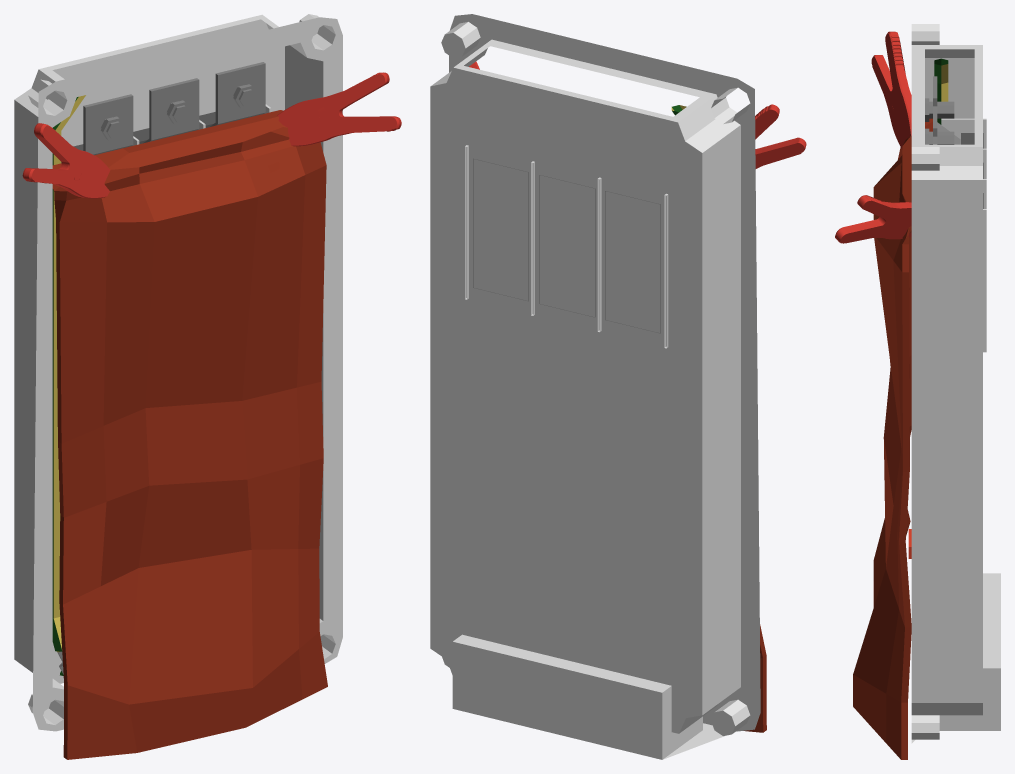
Rendered from Main-Distributor-V001-10-with-blanket.fbx.
3 views of the same model, side by side, from view 1: azimuth 30°, elevation 25°; view 2: azimuth 150°, elevation 25°; view 3: azimuth 270°, elevation 25° (orthographic). The views are drawn at different scales.
Parts seen in each view (by area): view 1: Safety-blanket, 000-box; view 2: 000-box, Safety-blanket; view 3: 000-box, Safety-blanket.
Part boxes in pixels (x1,y1,x2,y2): Safety-blanket: (22, 72, 401, 759); 000-box: (14, 14, 342, 731); 000-box: (430, 14, 760, 759); Safety-blanket: (469, 61, 806, 732); 000-box: (911, 24, 1000, 743); Safety-blanket: (835, 31, 932, 759).
Bounding box in the file's own units: 231 × 414 × 99.08.
